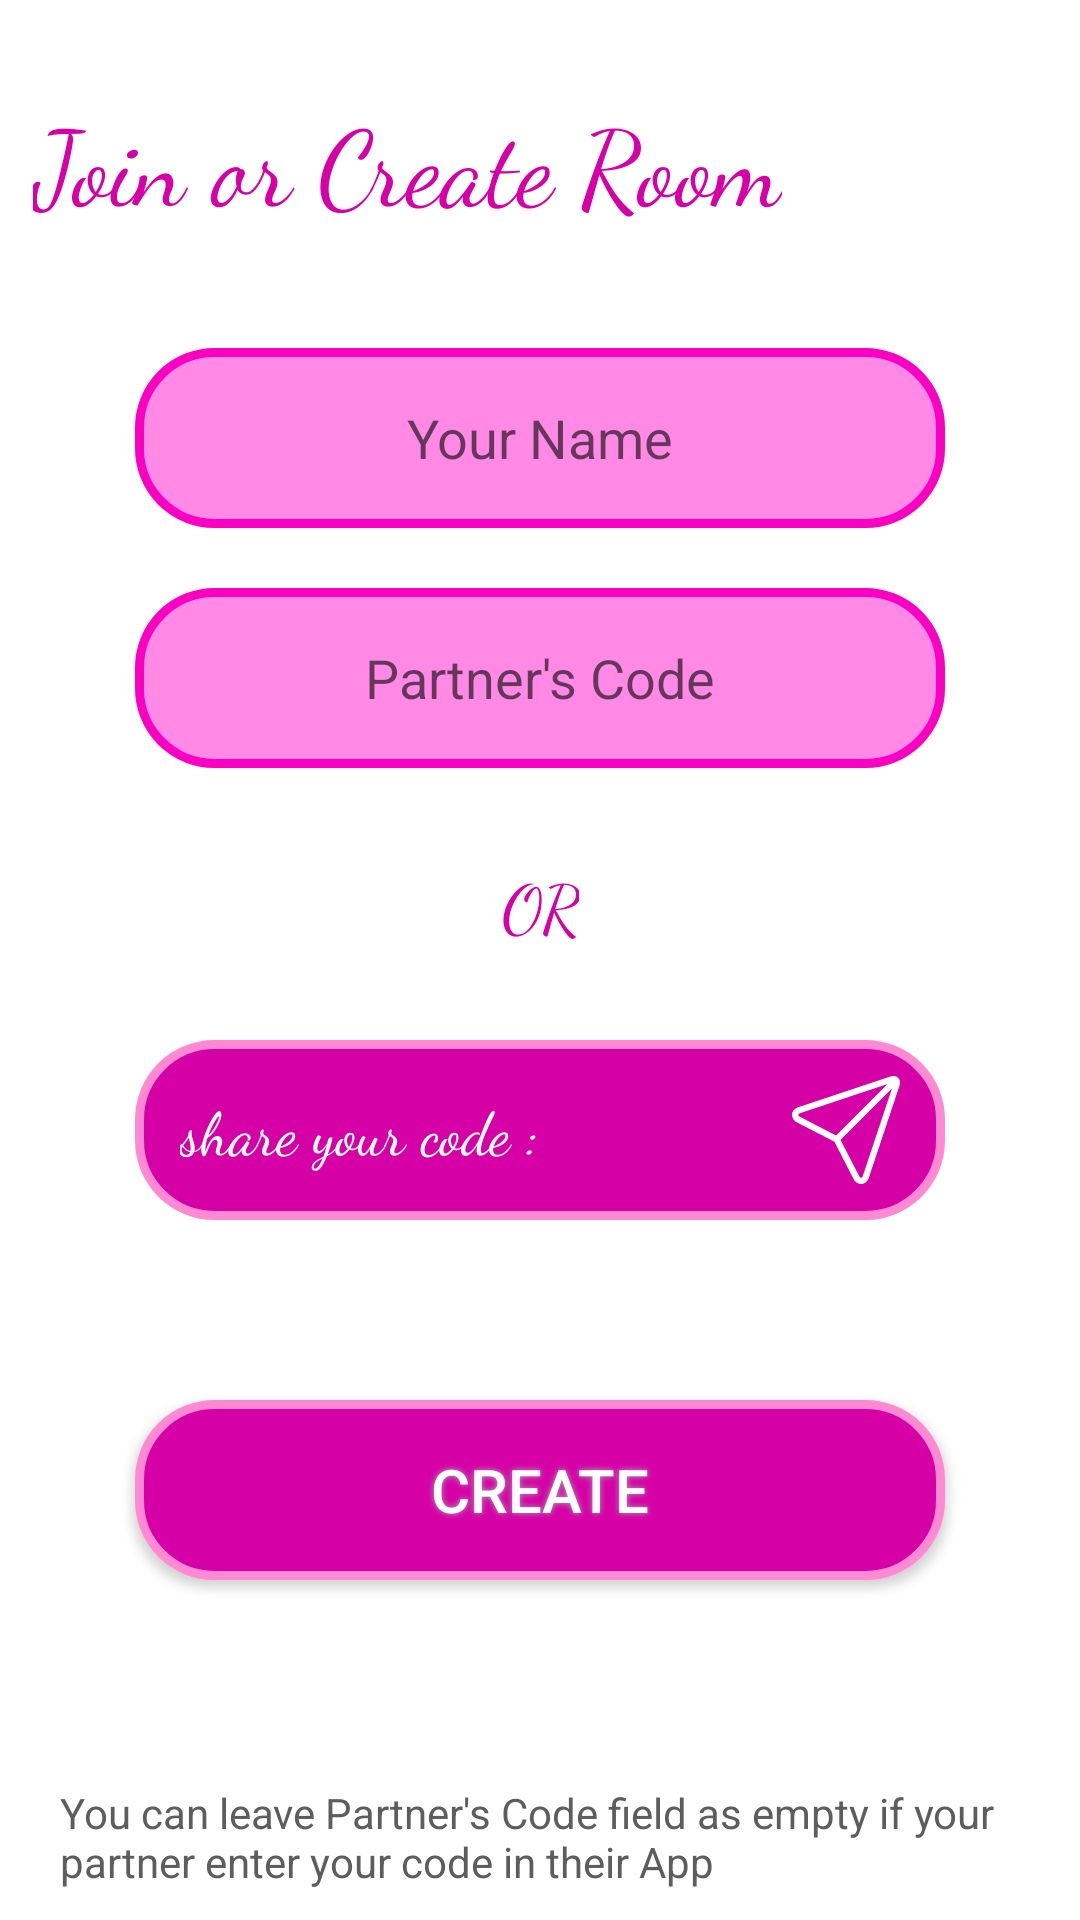

Icons on this 1080px x 1920px Android screen, each with the point to tap as [x,y]:
arrow share: [846,1130]
